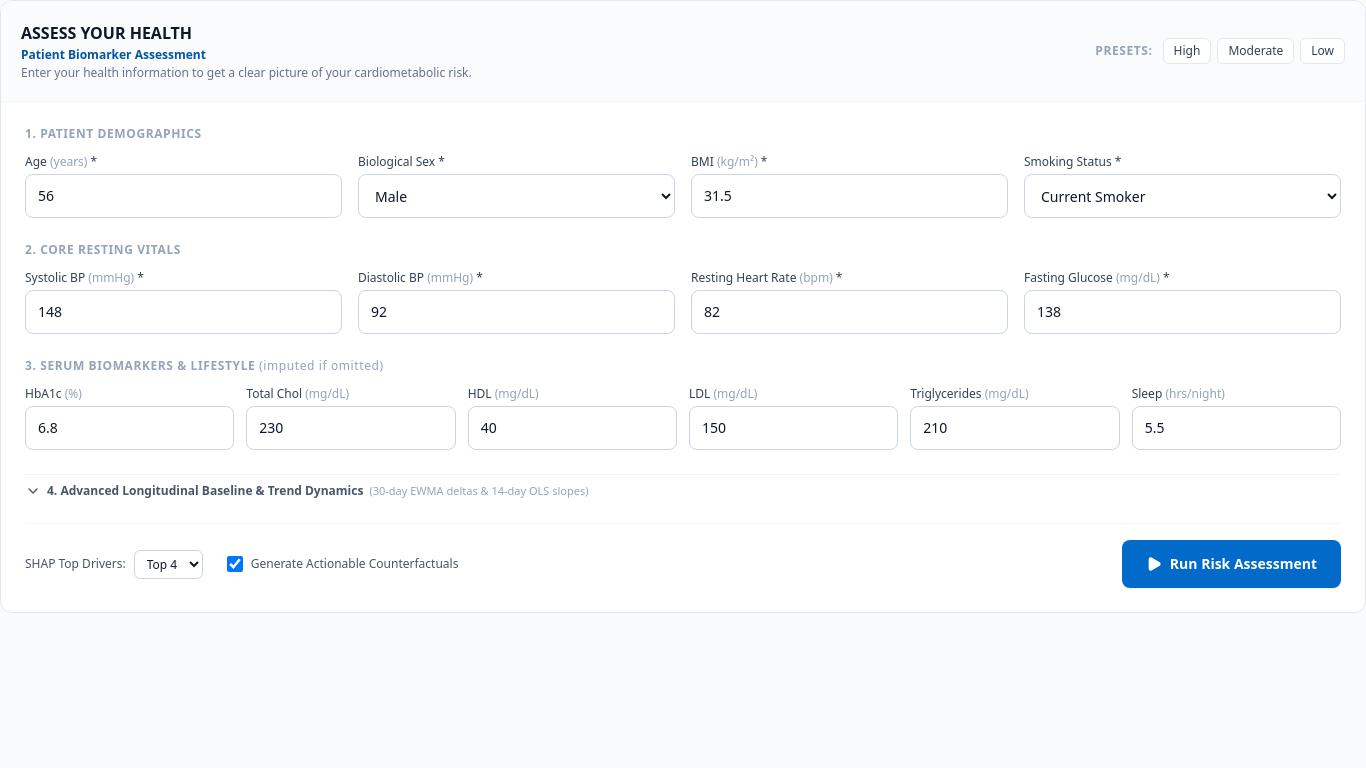
Test: PatientForm › validates that Systolic BP must exceed Diastolic BP
The image size is (1366, 768).
Note: Make systolic 80 and diastolic 90
Replace the text in the number field labelled "Systolic BP (mmHg) *" with "80": point(184, 312) [25,290,342,334]
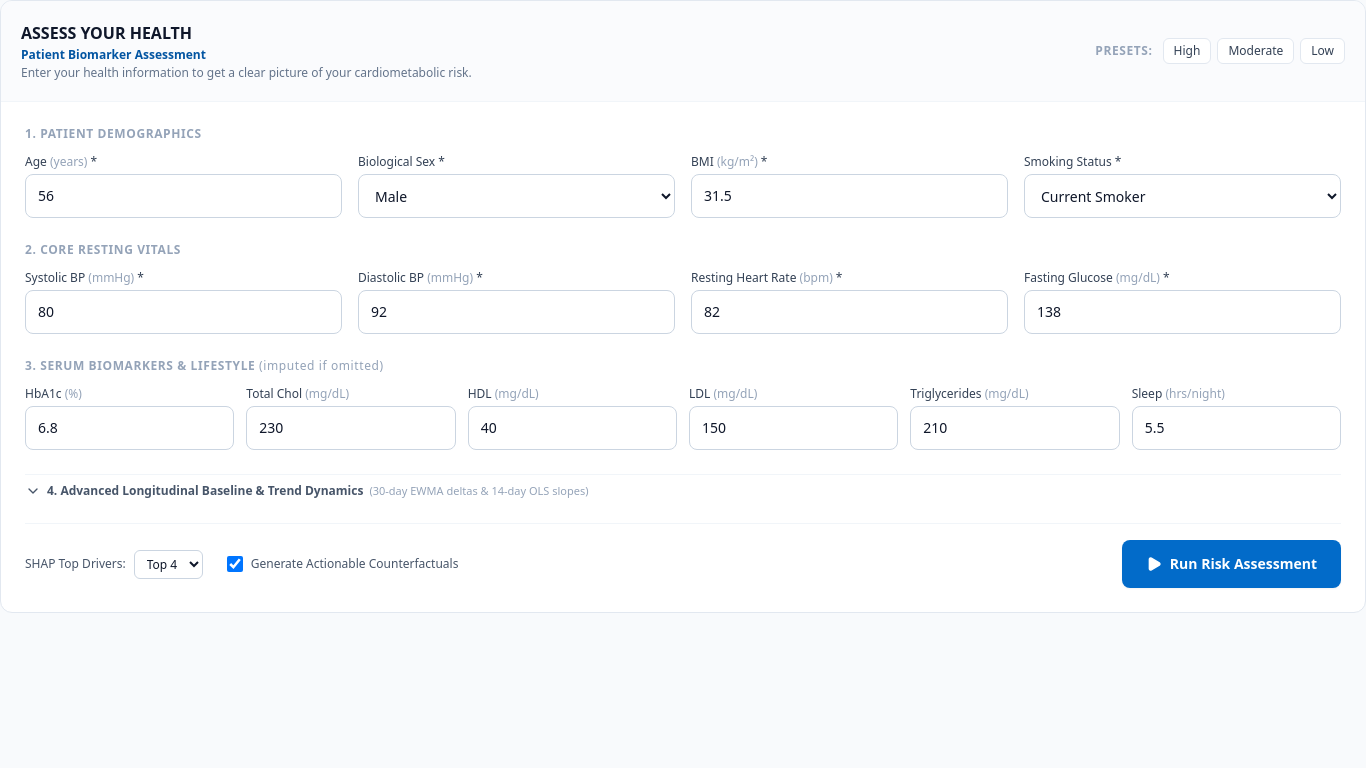
Replace the text in the number field labelled "Diastolic BP (mmHg) *" with "90": point(516, 312) [358,290,675,334]
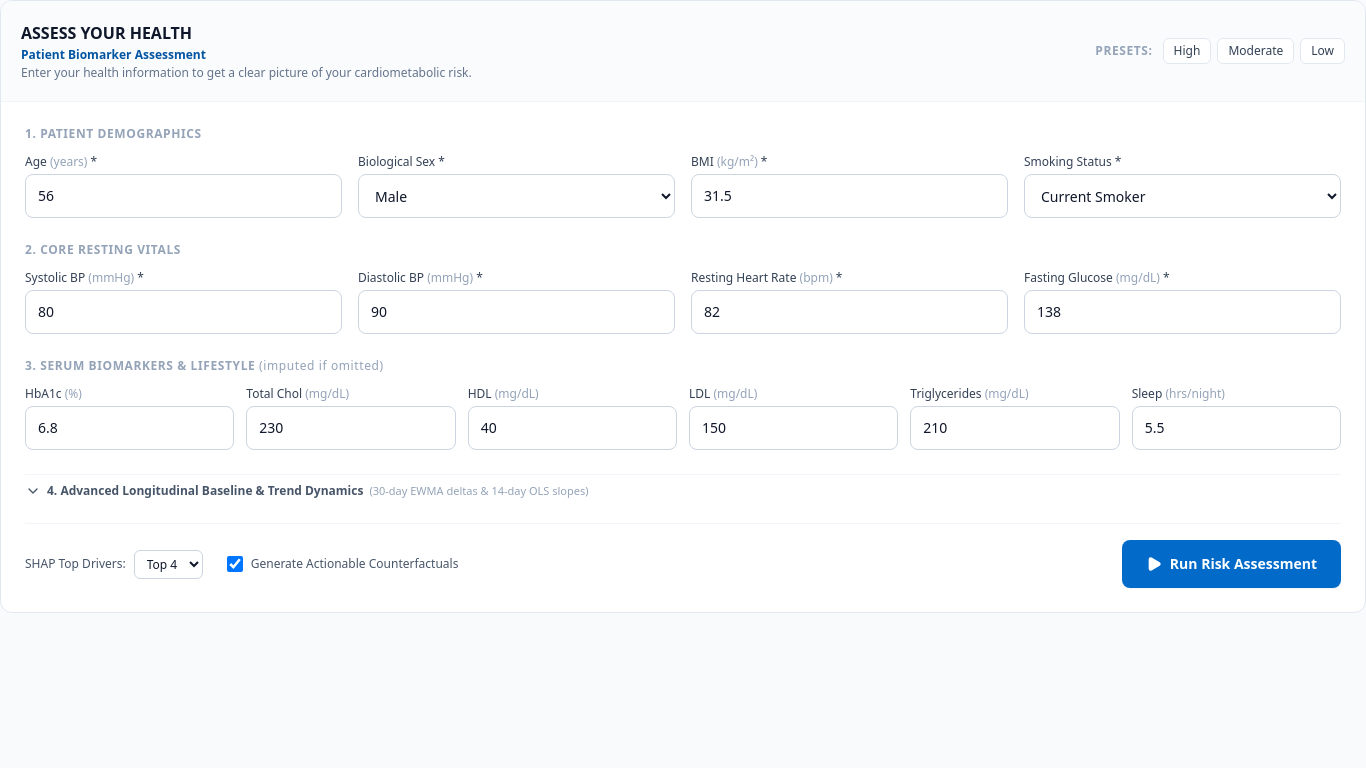
Click the button "Run Risk Assessment": point(1231, 564) [1122,540,1341,588]
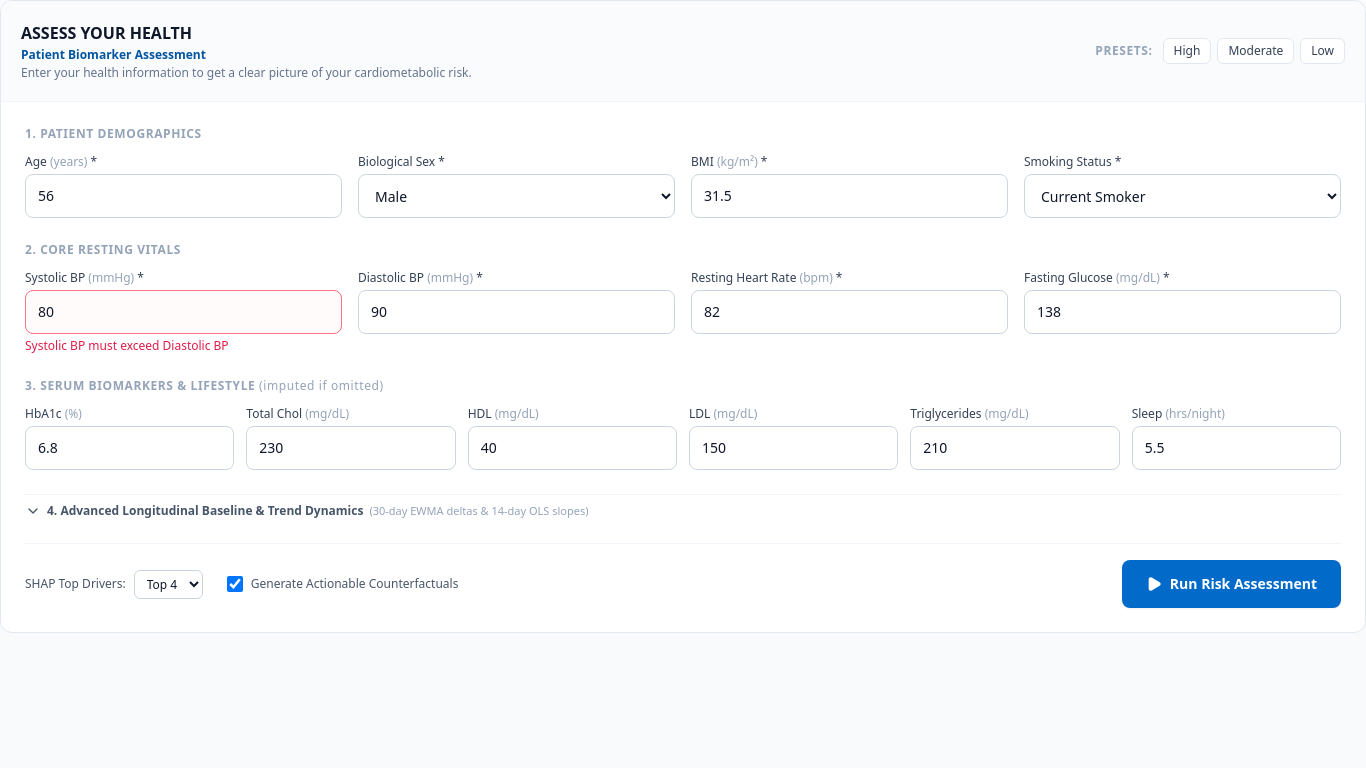
Expected: the text "Systolic BP must exceed Diastolic BP" is shown, [25,337,229,354]
